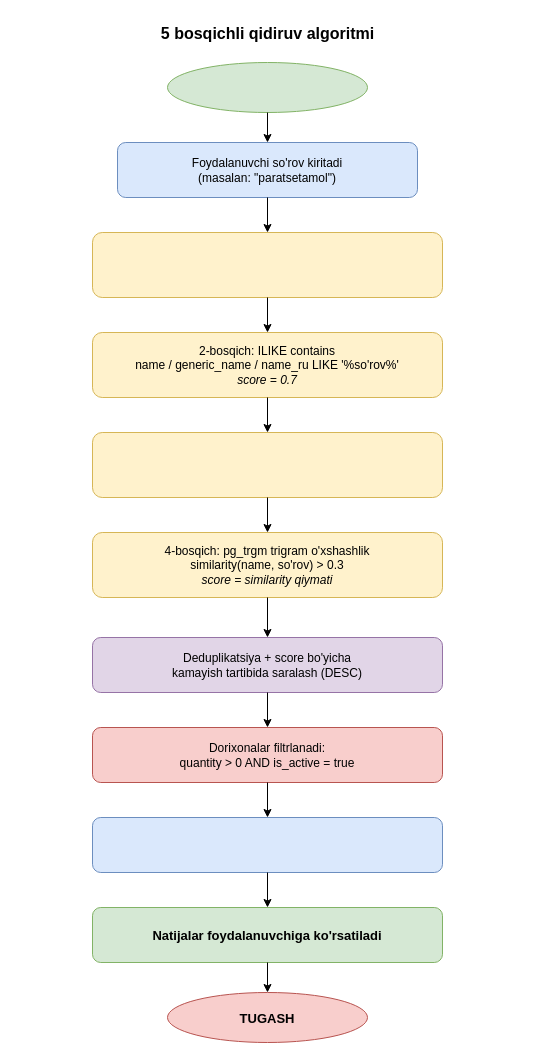
Image size: 534x1060. Some labels were removed from this diagram. Each missing label, with the centre of its shape:
"1-bosqich: Aniq mos name / generic_name / name_ru = so'rov score = 1.0" goes at pixel 267 265.
"3-bosqich: Sinonim ILIKE medicine_synonyms.synonym LIKE '%so'rov%' score = 0.65" goes at pixel 267 465.
"BOSHLASH" goes at pixel 267 87.
"Haversine yoki narx bo'yicha tartiblash (SortMode: Distance / Price)" goes at pixel 267 844.
